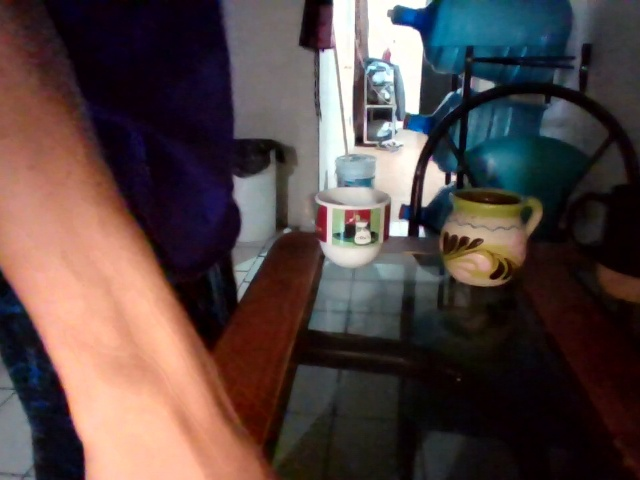taza: (438, 188, 544, 288)
